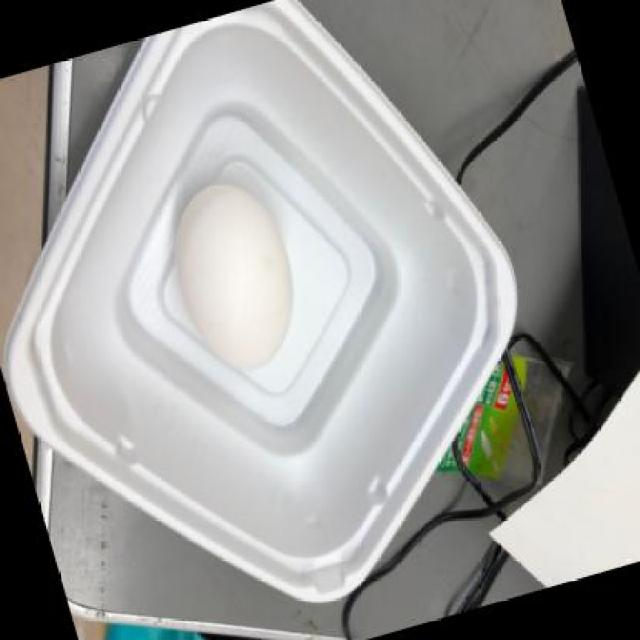egg: (164, 179, 295, 370)
